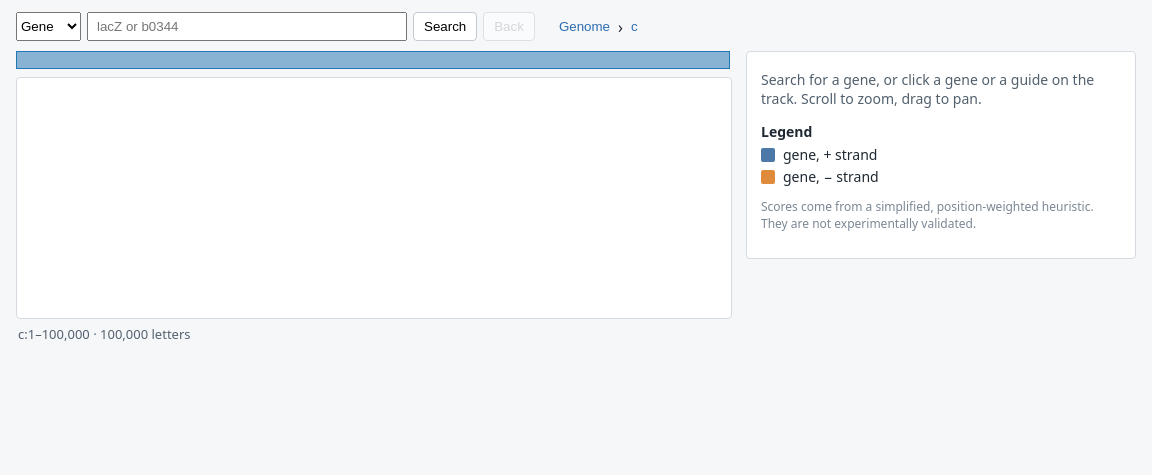
Test: the viewer › Compute guides scores the gene's guides and summarizes them
Expected: the button "c" is shown, [627,17,642,36]
Step 1. Type "geneA" into the field named "Search" → (247, 26), box [87,12,407,41]
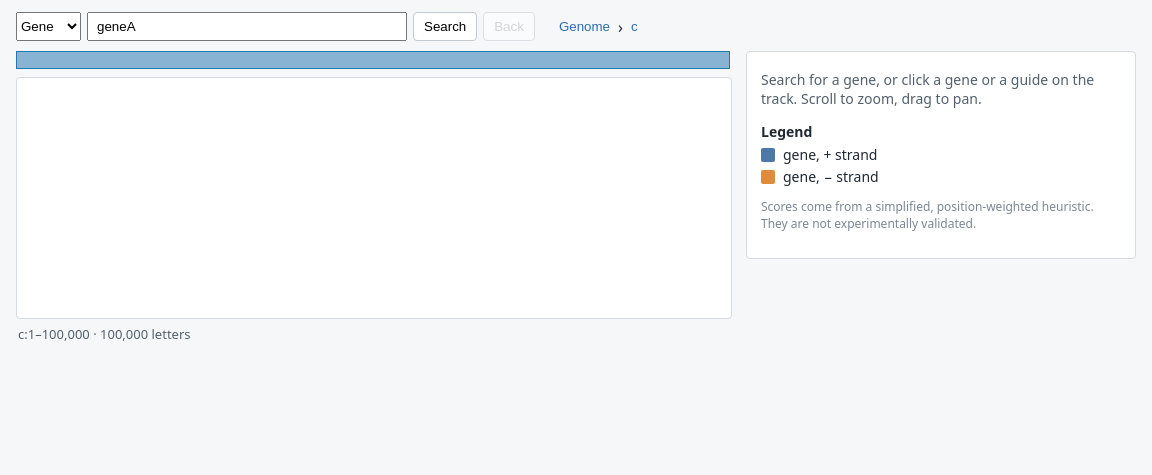
Step 2. Click the button "Search" → (445, 26), box [413,12,477,41]
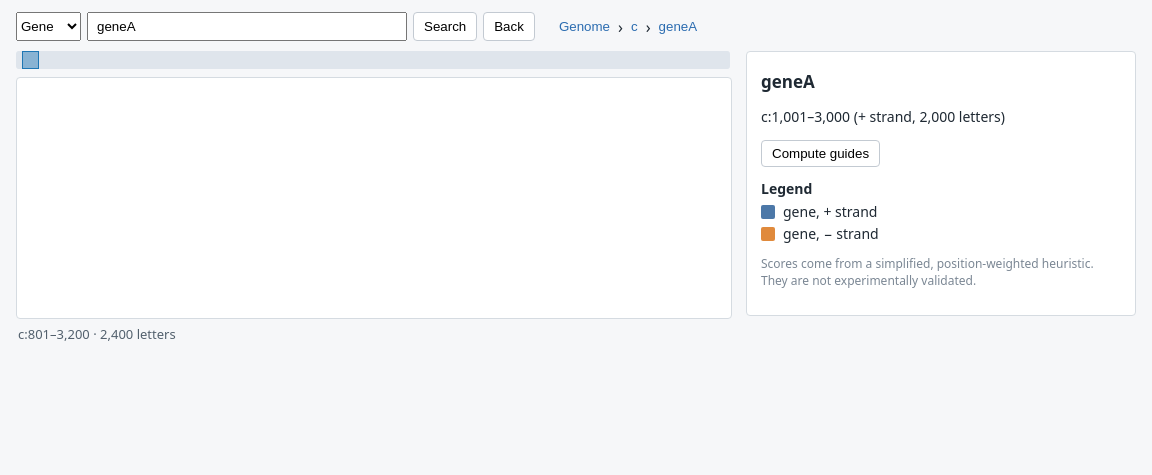
Step 3. Click the button "Compute guides" → (821, 154), box [761,140,880,167]
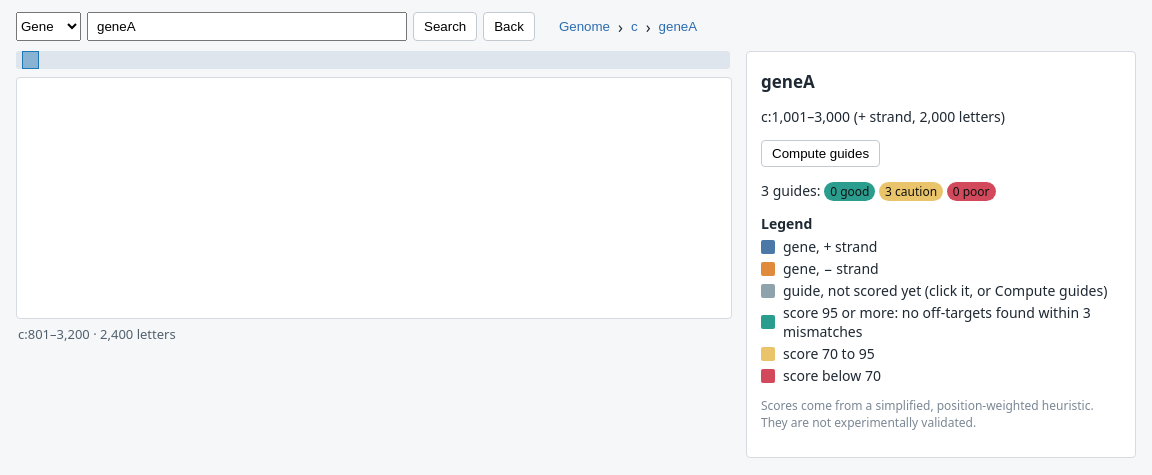
Result: the text "3 caution" is shown at [879,182,943,201]
